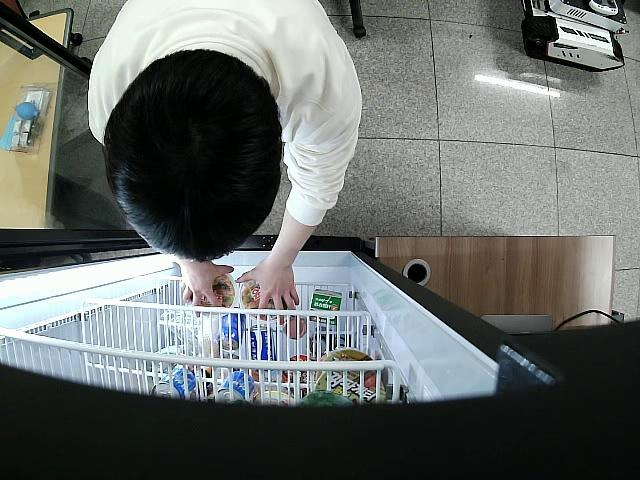00_hand: (235, 260, 300, 326), (179, 263, 234, 318)
09_yukGaeJang: (188, 273, 237, 314), (240, 281, 287, 321)
